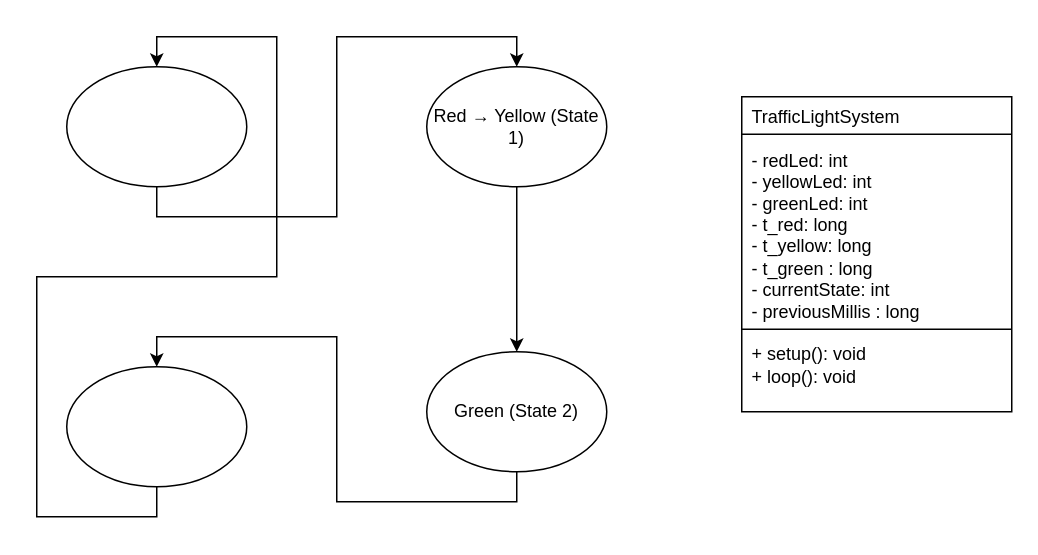
This 1038x555 diagram has some shape labels left out. Each missing label, with the box of its shape:
Green → Yellow (State 3): (65, 365, 247, 487)
Red Light (State 0): (65, 65, 247, 187)
